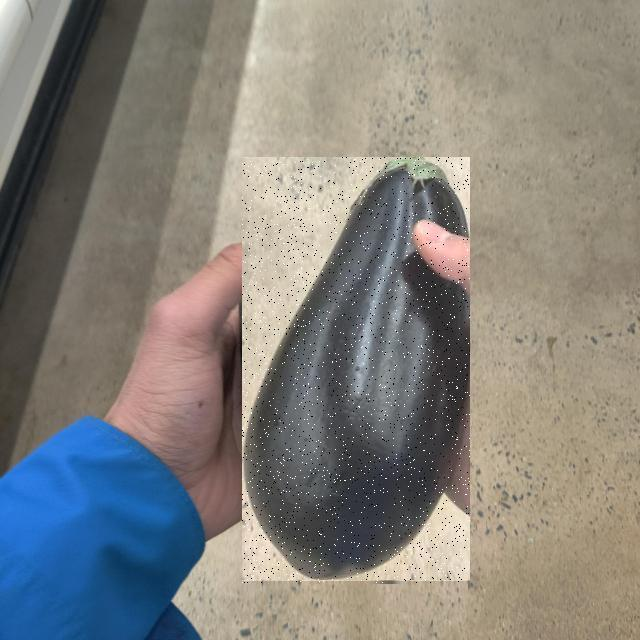Egg Plant: (242, 158, 470, 584)
